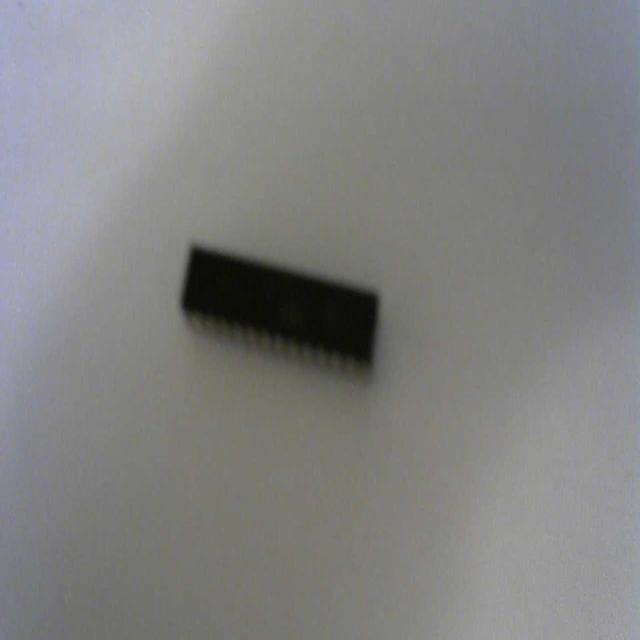atmega: (178, 236, 382, 380)
